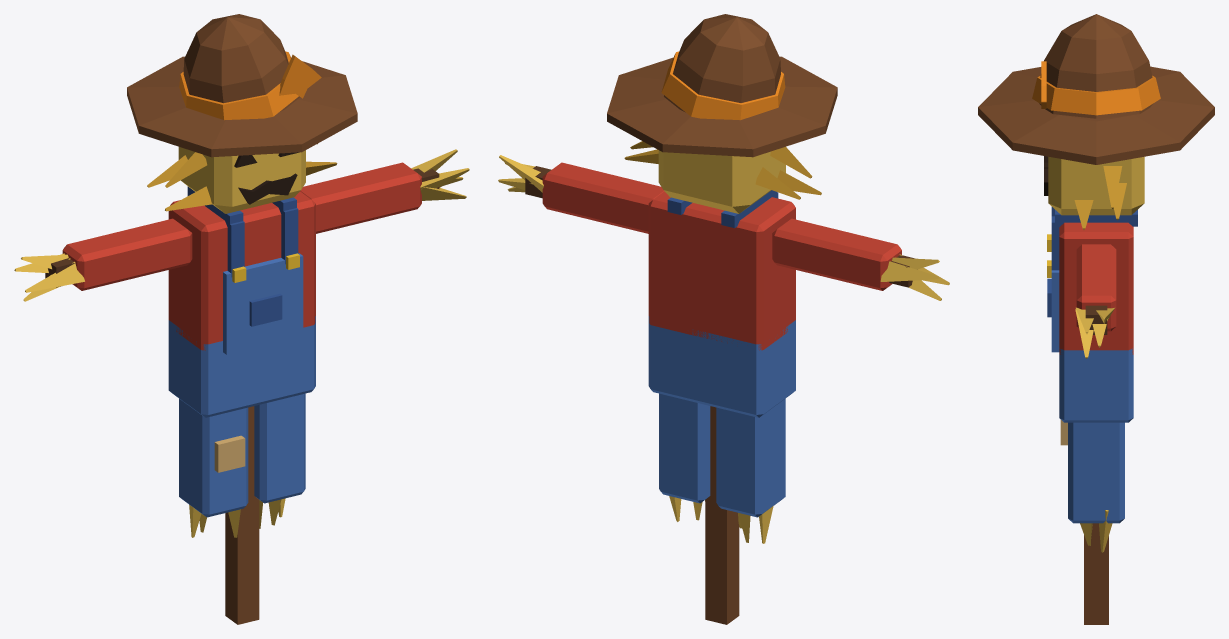
File: scarecrow-blue-1x1.glb
3 renders of one model, left to right at view 1: azimuth 30°, elevation 25°; view 2: azimuth 150°, elevation 25°; view 3: azimuth 270°, elevation 25°, orthographic.
Parts seen in each view (by area): view 1: scarecrow-blue-1x1; view 2: scarecrow-blue-1x1; view 3: scarecrow-blue-1x1.
Part boxes in pixels (bbox=[...]): scarecrow-blue-1x1: bbox=[14, 14, 469, 624]; scarecrow-blue-1x1: bbox=[498, 14, 949, 624]; scarecrow-blue-1x1: bbox=[978, 14, 1214, 624].
Size of the model in its own units: 0.9 by 1.17 by 0.4194.
1 material, 1 textured.
